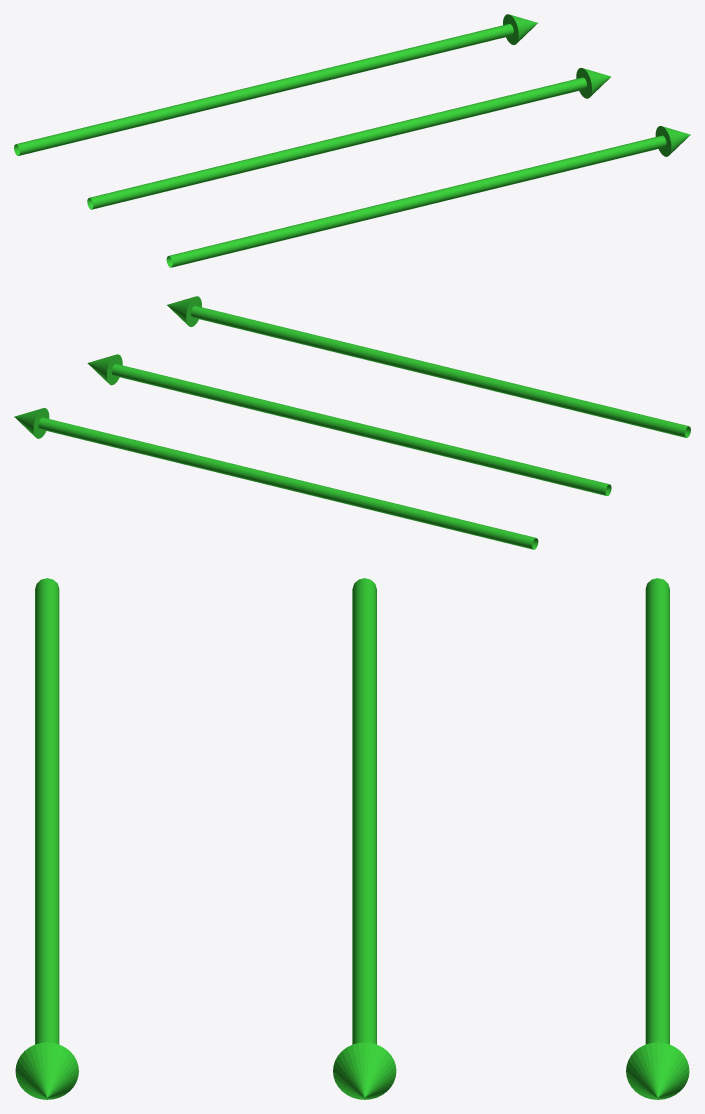
File: DCmgf.glb
3 renders of one model, top to bottom at view 1: azimuth 30°, elevation 25°; view 2: azimuth 150°, elevation 25°; view 3: azimuth 270°, elevation 25°, orthographic. The views are drawn at different scales.
Visible parts, largest first — view 1: 円錐.001, 円錐.002, 円錐; view 2: 円錐.001, 円錐, 円錐.002; view 3: 円錐.002, 円錐.001, 円錐.
Boxes of the visible parts, bbox=[...] form: 円錐.001: bbox=[87, 68, 611, 209]; 円錐.002: bbox=[166, 126, 690, 267]; 円錐: bbox=[14, 14, 537, 155]; 円錐.001: bbox=[87, 354, 611, 495]; 円錐: bbox=[14, 408, 538, 549]; 円錐.002: bbox=[167, 296, 690, 437]; 円錐.002: bbox=[15, 578, 78, 1099]; 円錐.001: bbox=[333, 578, 396, 1099]; 円錐: bbox=[626, 578, 689, 1099].
Bounding box in the file's own units: 4.93 × 0.26 × 2.76.
